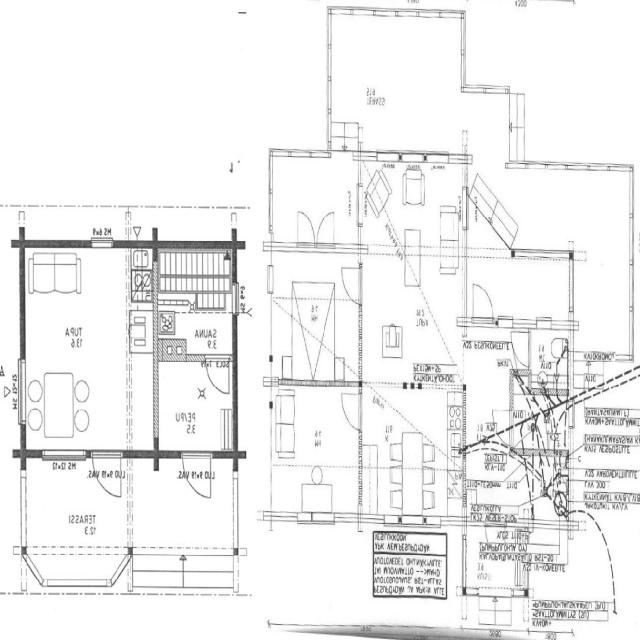door: (182, 451, 211, 512), (93, 450, 121, 510), (207, 353, 230, 405), (473, 280, 494, 327), (338, 268, 362, 305), (339, 394, 363, 431), (297, 210, 316, 253), (486, 514, 504, 558), (316, 210, 334, 253), (491, 411, 513, 446), (510, 332, 532, 366)
